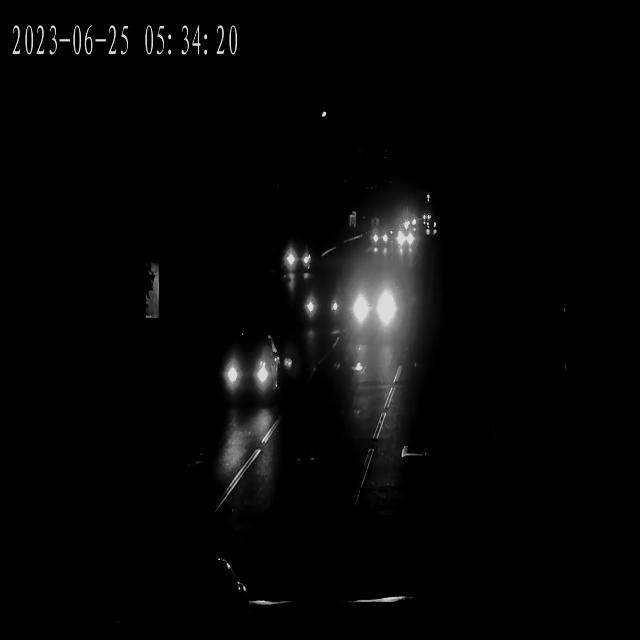Car: (214, 336, 278, 417), (353, 270, 402, 340), (304, 271, 344, 334), (277, 236, 316, 278), (368, 214, 392, 257), (394, 222, 414, 256), (424, 224, 443, 244), (402, 212, 418, 233)
